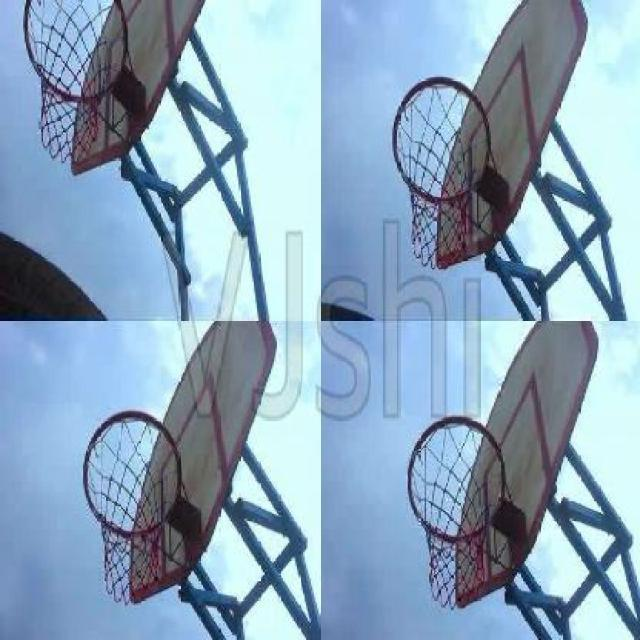rim: (407, 414, 507, 608), (392, 76, 490, 266), (84, 410, 180, 602), (21, 0, 123, 160)
